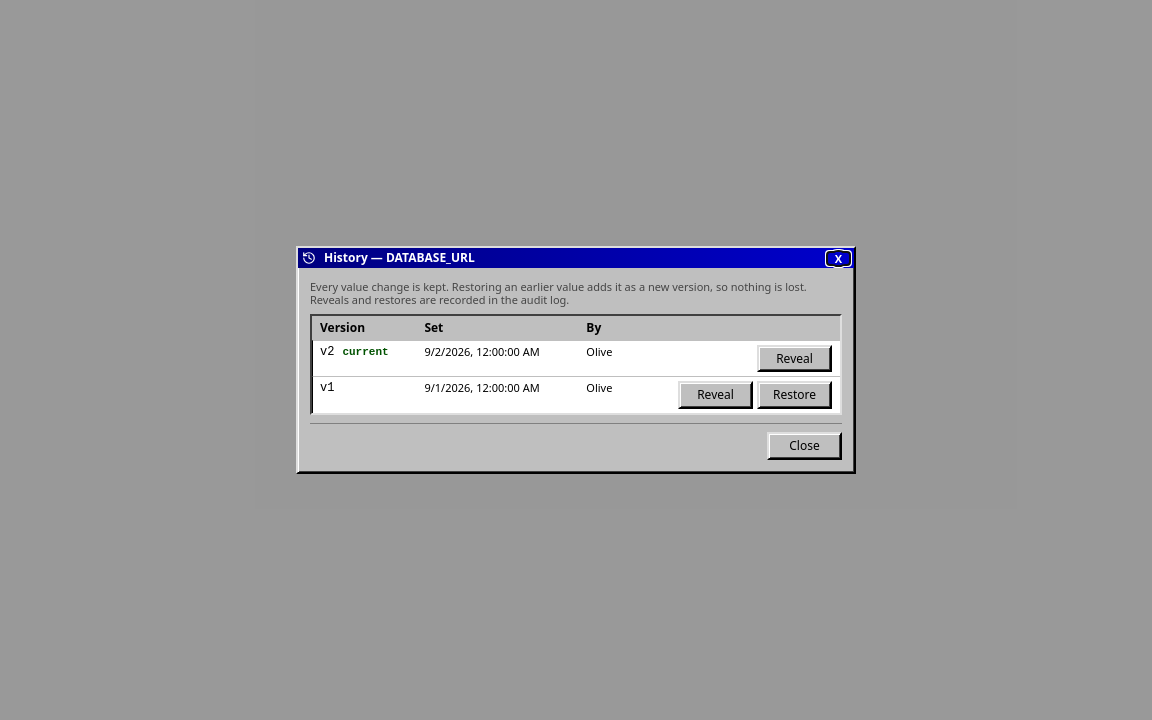
Test: SecretHistoryDialog › reveals and restores earlier versions after confirmation
expect the text "v1" is shown: met, box [312, 377, 416, 413]
expect the number of buttons "Restore" is 1: met, box [757, 382, 832, 409]
What coordinates should you click on to do the following:
click the button "Reveal" in the row of "9/1/2026, 12:00:00 AM"
I would click on:
 (716, 395)
Its box is [678, 382, 753, 409].
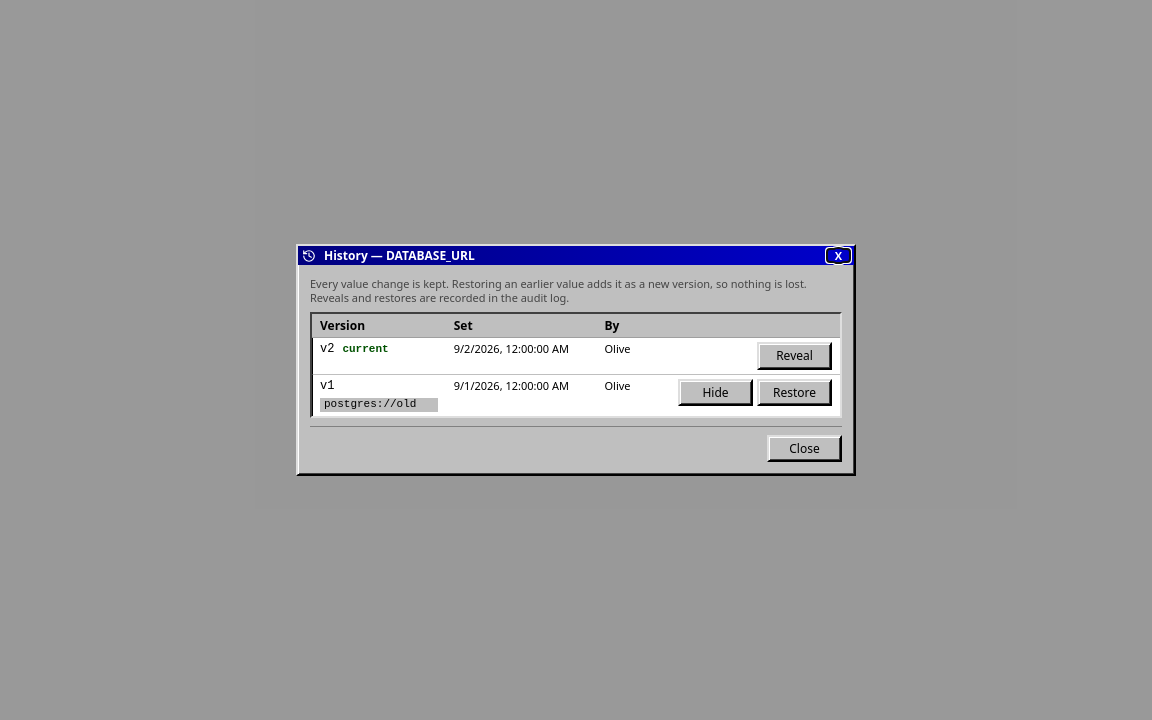
expect the text "postgres://old" is shown: met, box [320, 398, 438, 412]
What coordinates should you click on to do the following:
click the button "Restore"
I would click on:
 (794, 393)
Its box is [757, 379, 832, 406].
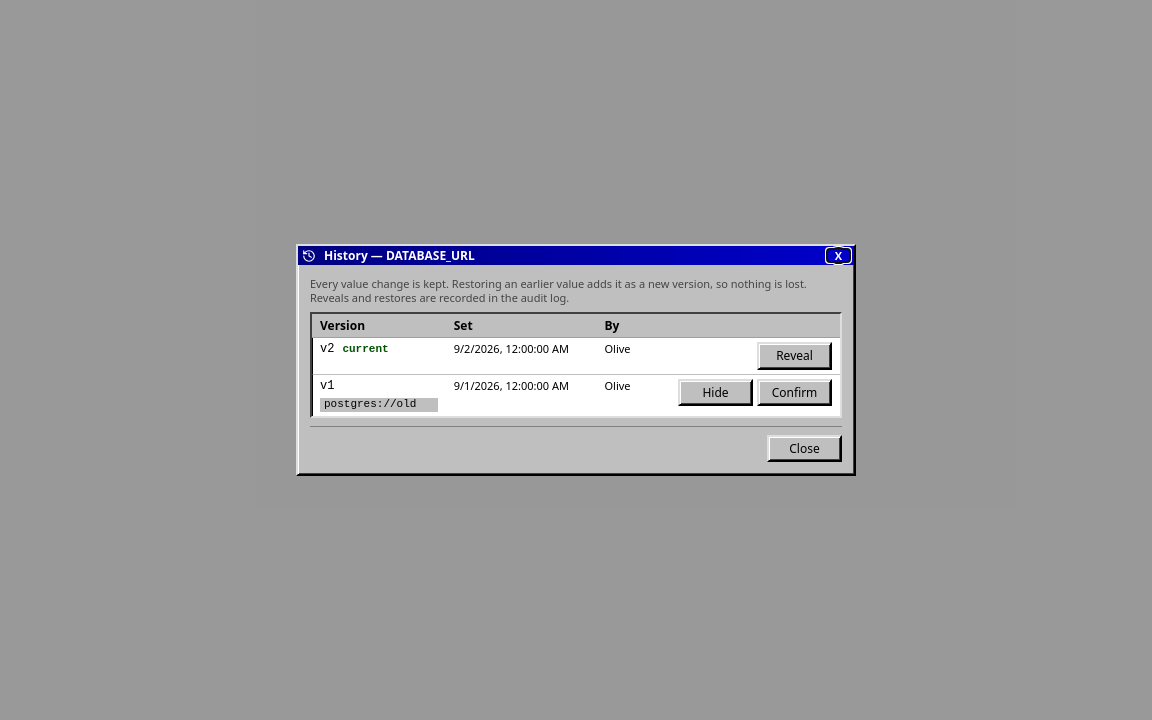
What coordinates should you click on to do the following:
click the button "Confirm"
I would click on:
 (794, 393)
Its box is [757, 379, 832, 406].
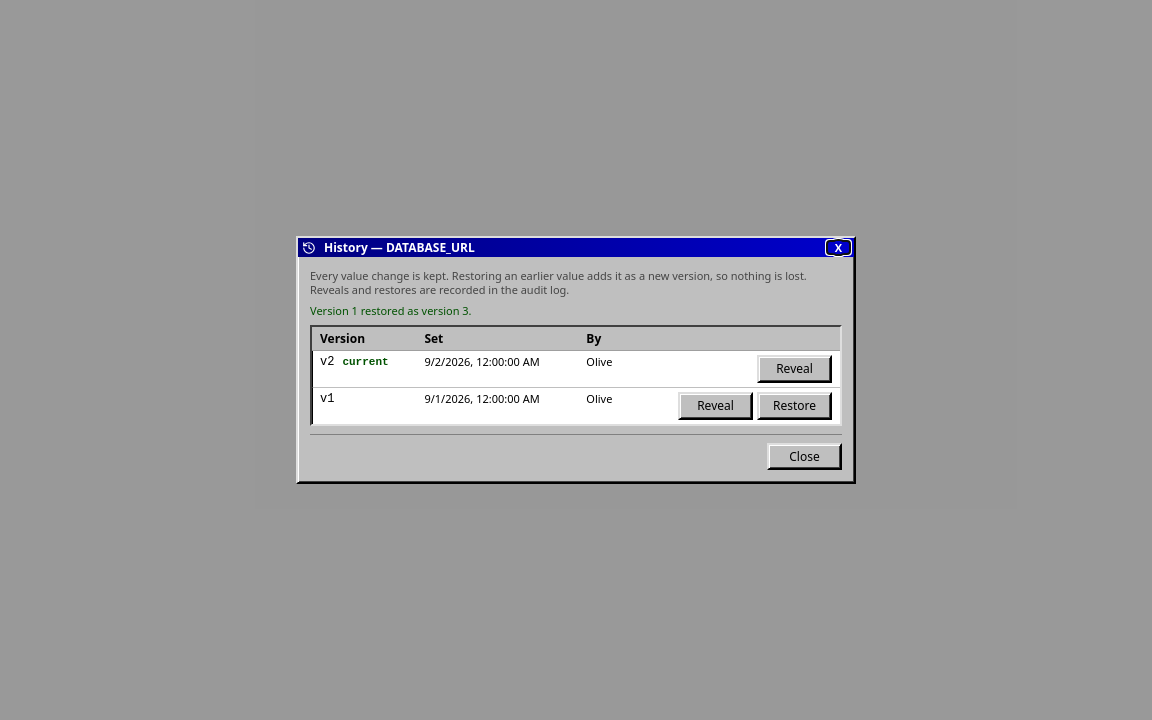
expect the message shows "Version 1 restored as version 3": met, box [310, 303, 472, 318]
